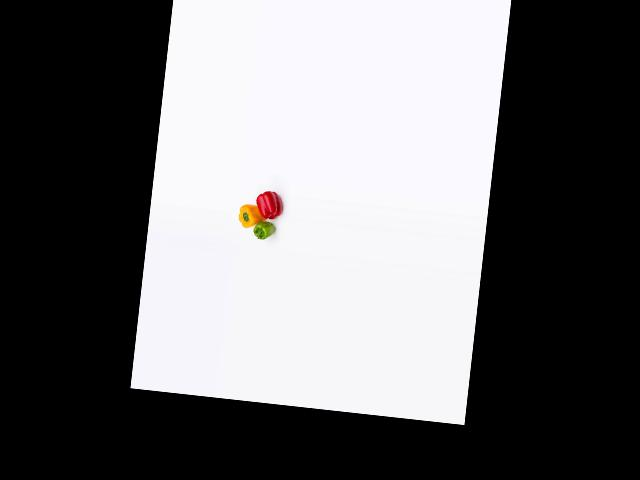bell_pepper: (250, 219, 276, 245)
